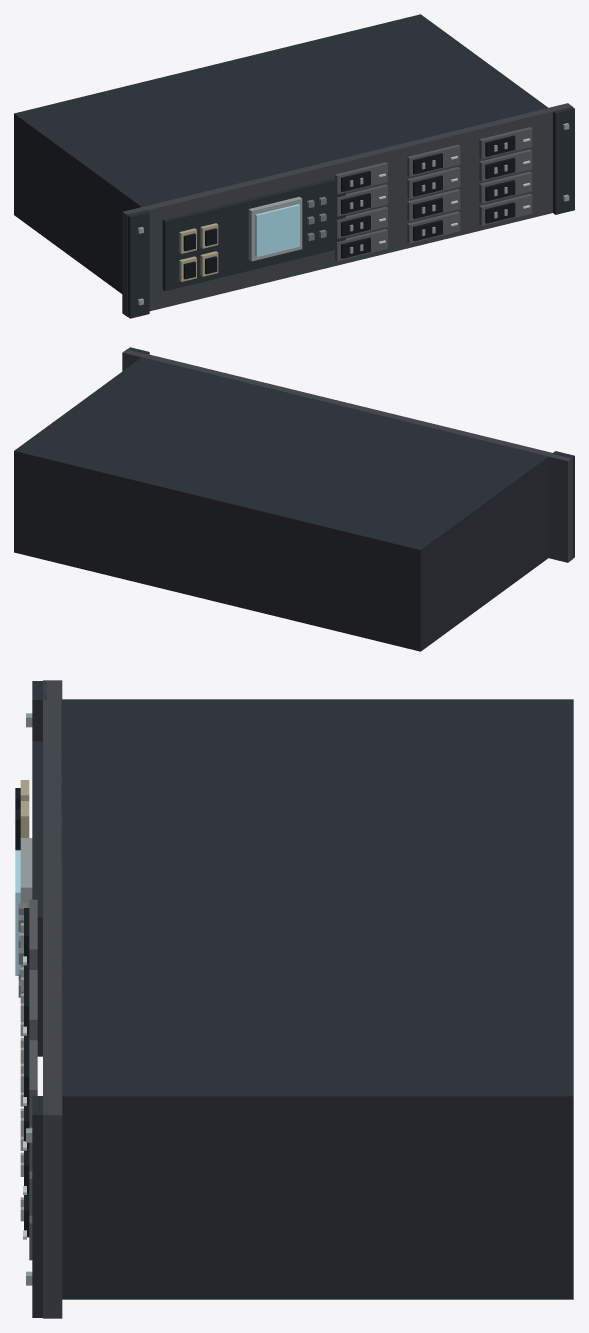
The model's file is pdu_rack_horizontal.glb.
3 renders of one model, top to bottom at view 1: azimuth 30°, elevation 25°; view 2: azimuth 150°, elevation 25°; view 3: azimuth 270°, elevation 25°, orthographic. The views are drawn at different scales.
Visible parts, largest first — view 1: rack PDU chassis, front bezel, controller recess, outlet bezel (×12), outlet (×12), rack mounting ear (×2), LCD, LCD frame; view 2: rack PDU chassis, front bezel; view 3: rack PDU chassis, front bezel, controller recess, rack mounting ear, LCD frame.
Boxes of the visible parts, left/top/right/bottom form: rack PDU chassis: left=14, top=14, right=548, bottom=293; front bezel: left=122, top=103, right=572, bottom=316; controller recess: left=162, top=177, right=345, bottom=291; outlet bezel (×12): left=335, top=127, right=532, bottom=261; outlet (×12): left=341, top=135, right=515, bottom=258; rack mounting ear (×2): left=127, top=107, right=574, bottom=318; LCD: left=255, top=204, right=299, bottom=256; LCD frame: left=248, top=196, right=302, bottom=261; rack PDU chassis: left=14, top=357, right=548, bottom=651; front bezel: left=122, top=349, right=572, bottom=562; rack PDU chassis: left=61, top=699, right=573, bottom=1299; front bezel: left=43, top=680, right=62, bottom=1318; controller recess: left=32, top=741, right=42, bottom=1056; rack mounting ear: left=32, top=1096, right=47, bottom=1317; LCD frame: left=20, top=838, right=32, bottom=967.
Bounding box in the file's own units: 0.482 × 0.105 × 0.2615.
